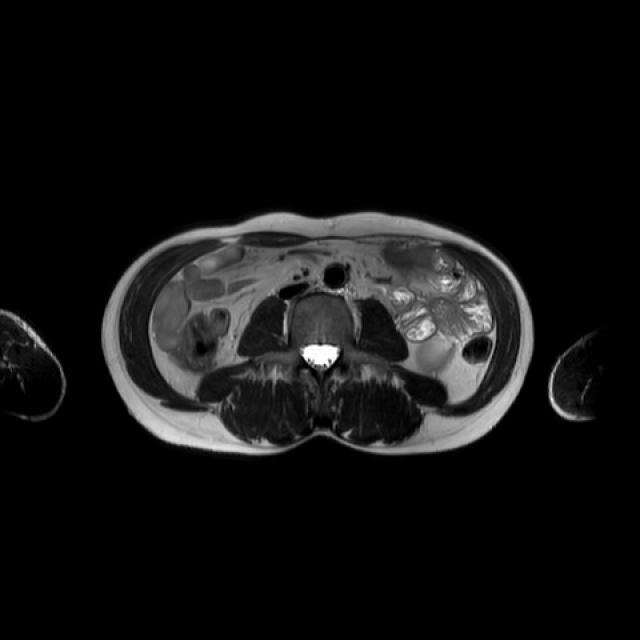sol: (415, 335, 455, 369)
